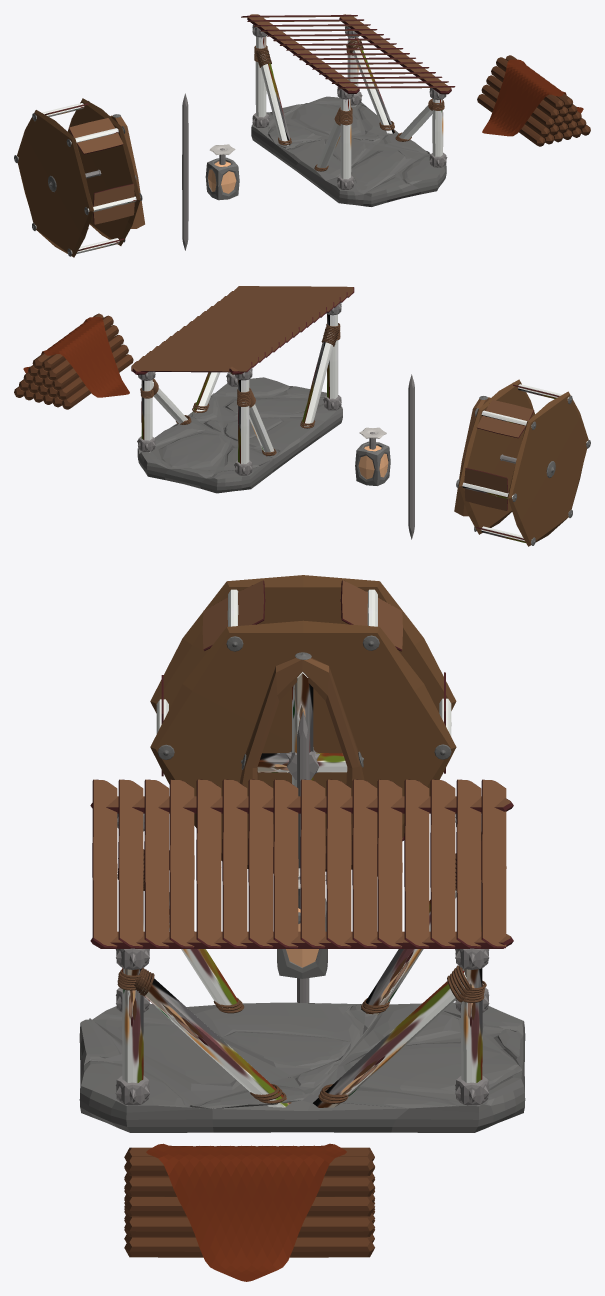
Rendered from lumbermill.fbx.
3 views of the same model, one above another, from view 1: azimuth 30°, elevation 25°; view 2: azimuth 150°, elevation 25°; view 3: azimuth 270°, elevation 25° (orthographic). The views are drawn at different scales.
Visible parts, largest first — view 1: Cube, Cylinder.049, Cylinder.039, Grid, Cylinder.020, Cylinder.008, Cylinder.054, Cylinder.053, Cylinder.036, Cylinder.005, Cylinder.006, Cube.013 (+11 smaller); view 2: Cube, Cylinder.049, Cylinder.039, Grid, Cylinder.009, Cylinder.051, Cylinder.052, Cylinder.036, Cylinder.004, Cube.013, Cylinder.001, Cylinder.024 (+26 smaller); view 3: Cube, Cylinder.039, Grid, Cylinder.049, Cube.014, Cylinder.010, Cylinder.011, Cylinder.012, Cylinder.019, Cylinder.023, Cylinder.024, Cylinder.025 (+28 smaller).
Part boxes in pixels (x1,y1,x2,y2): Cube: (251, 96, 446, 206); Cylinder.049: (17, 110, 93, 257); Cylinder.039: (67, 98, 140, 245); Grid: (482, 59, 583, 136); Cylinder.020: (247, 14, 359, 93); Cylinder.008: (339, 14, 451, 94); Cylinder.054: (93, 183, 134, 224); Cylinder.053: (69, 118, 123, 154); Cylinder.036: (182, 93, 188, 250); Cylinder.005: (260, 53, 291, 145); Cylinder.006: (352, 40, 394, 133); Cube.013: (205, 157, 239, 200); Cube: (137, 377, 342, 493); Cylinder.049: (507, 391, 588, 546); Cylinder.039: (458, 379, 535, 534); Grid: (23, 317, 129, 397); Cylinder.009: (131, 361, 252, 372); Cylinder.051: (464, 468, 508, 510); Cylinder.052: (477, 400, 534, 438); Cylinder.036: (408, 374, 414, 539); Cylinder.004: (302, 331, 333, 428); Cube.013: (355, 441, 390, 485); Cylinder.001: (238, 379, 249, 463); Cylinder.024: (227, 291, 347, 302); Cube: (79, 1002, 525, 1132); Cylinder.039: (150, 620, 456, 871); Grid: (146, 1143, 346, 1281); Cylinder.049: (150, 575, 456, 713); Cube.014: (239, 657, 377, 869); Cylinder.010: (456, 779, 481, 948); Cylinder.011: (430, 779, 455, 948); Cylinder.012: (404, 779, 429, 948); Cylinder.019: (222, 779, 247, 948); Cylinder.023: (144, 779, 169, 948); Cylinder.024: (118, 779, 143, 948); Cylinder.025: (92, 779, 117, 948).
Size of the model in its own units: 4617 by 1500 by 1713.
